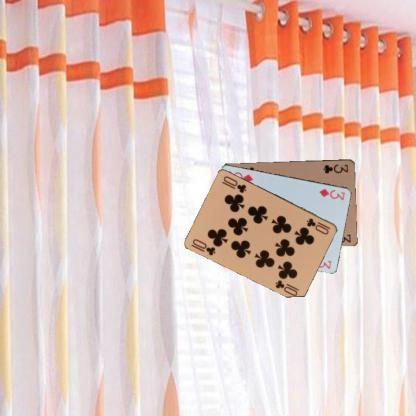10c: (304, 216, 332, 236), (190, 236, 217, 256)
3c: (321, 162, 349, 174)
3d: (317, 186, 346, 201)
